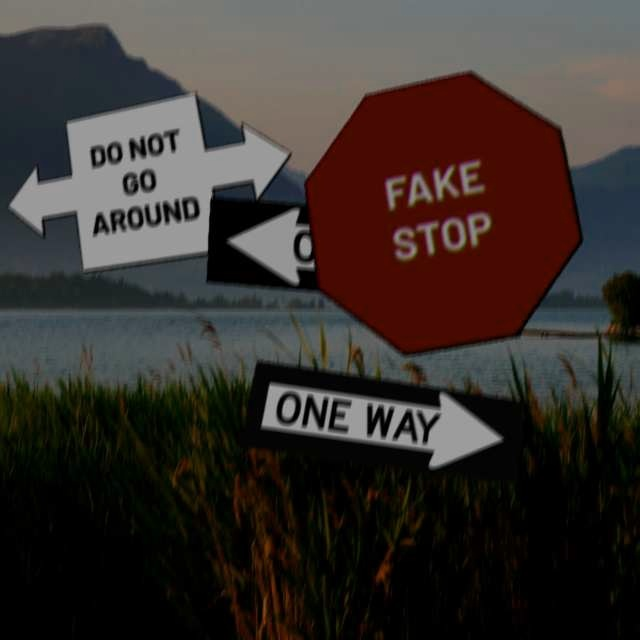DO_NOT_GO_AROUND: (7, 91, 293, 272)
FAKE_STOP: (304, 70, 584, 356)
ONE_WAY_ left: (207, 196, 493, 306)
ONE_WAY_ right: (239, 359, 525, 484)
